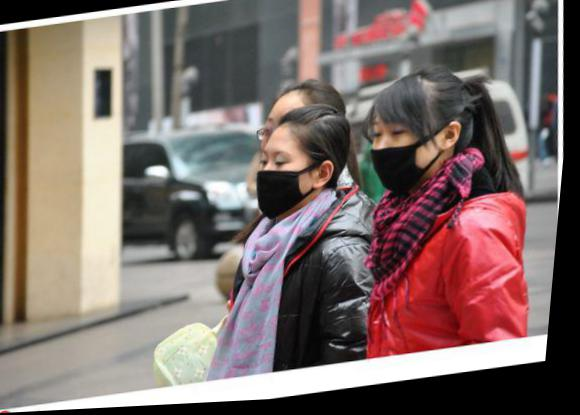OK: (254, 145, 319, 224)
WRONG: (366, 115, 445, 199)
